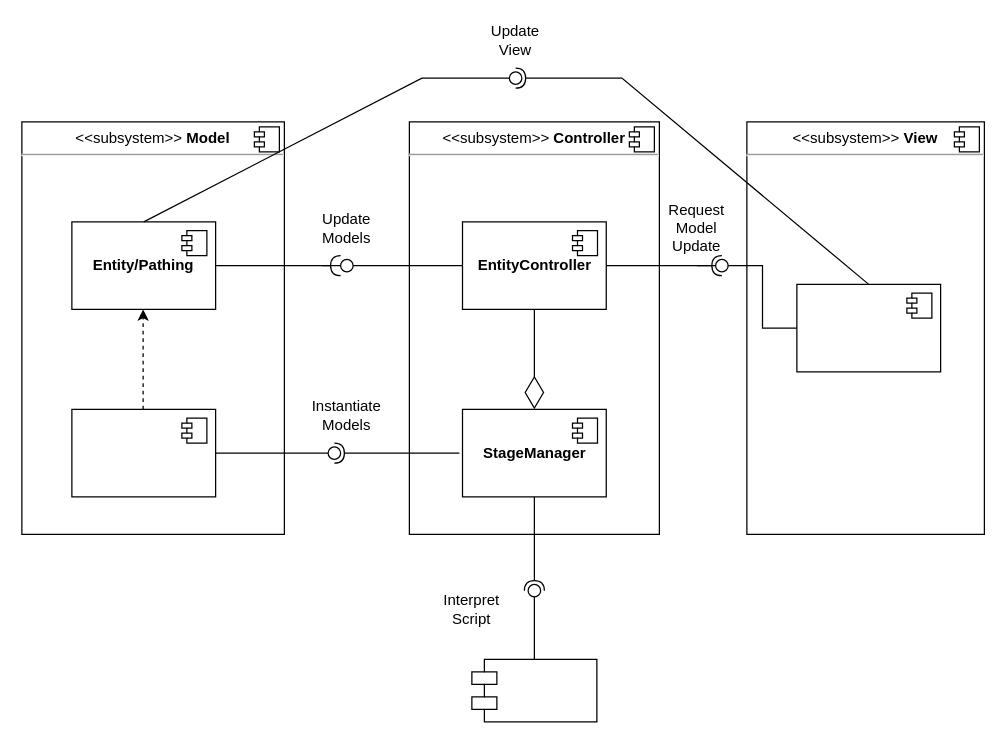
Image size: 1006x744. Some labels were removed from this diagram. Here are the shapes that lost their labels. From the top down, the box of each, then its label:
(796, 283, 941, 372): GameUI
(71, 408, 216, 497): EntityFactories
(471, 658, 597, 722): JSON Script
